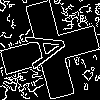A: (25, 25, 78, 70)
